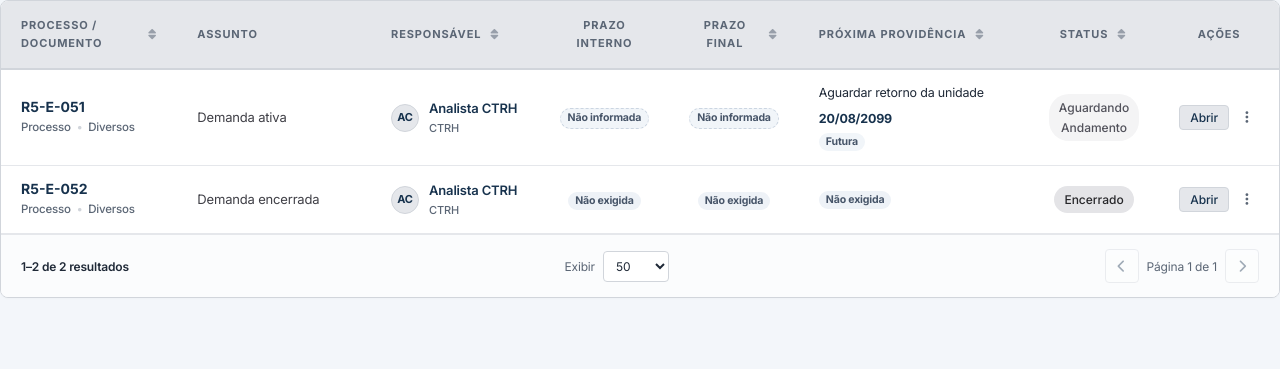
it: R5 Essencial › apresenta ações contextuais também na tabela
Click the button named "mais ações da demanda r5-e-051": click(1247, 118) [1235,106,1259,130]
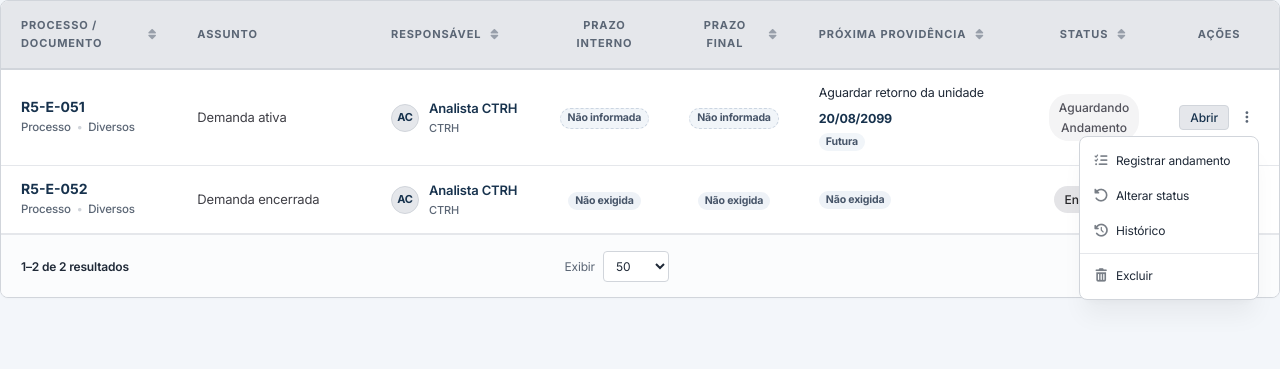
expect the menu item "Registrar andamento" is shown: met, box [1094,153,1230,168]
expect the menu item "Alterar status" is shown: met, box [1094,188,1189,203]
Press Escape
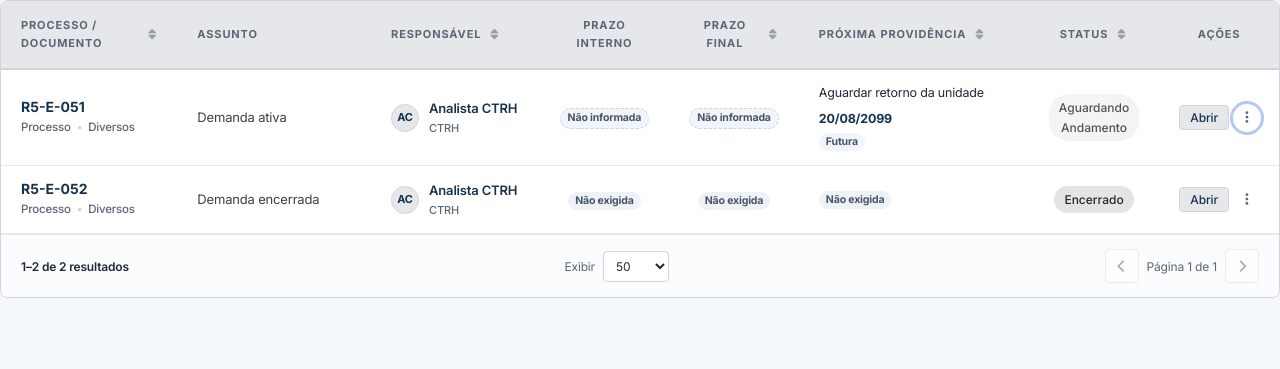
Click the button named "mais ações da demanda r5-e-052": click(1247, 200) [1235,188,1259,212]
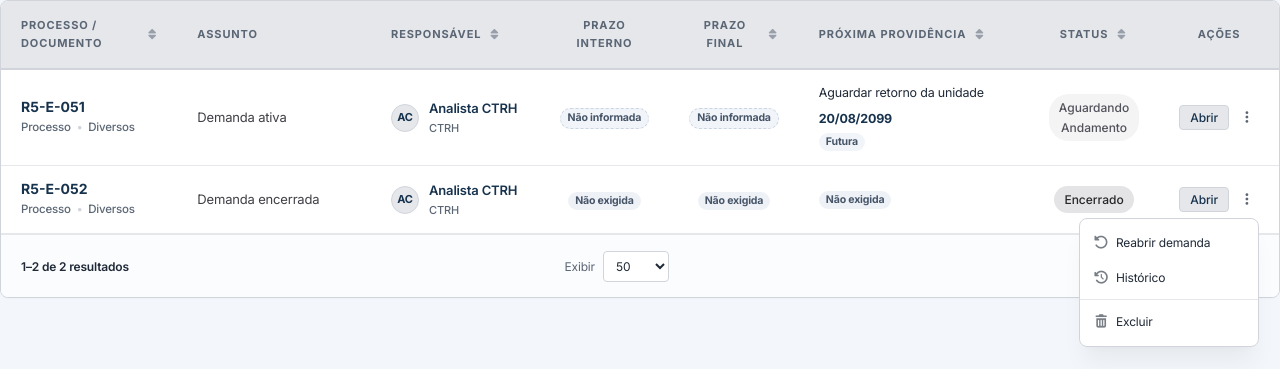
expect the menu item "Registrar andamento" is not shown: met
expect the menu item "Reabrir demanda" is shown: met, box [1094,235,1210,250]
